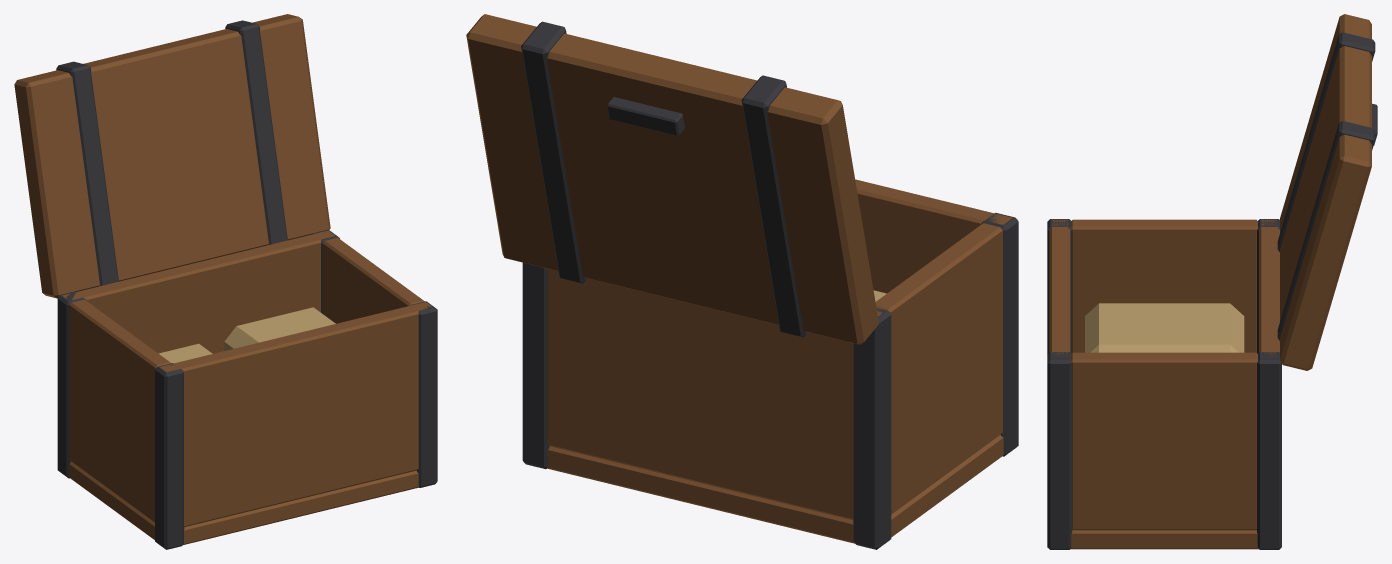
File: Prop_Ash_SeedCache_Open.glb
The picture shows the model from 3 angles, left to right: view 1: azimuth 30°, elevation 25°; view 2: azimuth 150°, elevation 25°; view 3: azimuth 270°, elevation 25°; orthographic projection. The views are drawn at different scales.
Parts seen in each view (by area): view 1: Prop_Ash_SeedCache_Open, Prop_Ash_SeedCache_Open_Lid; view 2: Prop_Ash_SeedCache_Open, Prop_Ash_SeedCache_Open_Lid; view 3: Prop_Ash_SeedCache_Open, Prop_Ash_SeedCache_Open_Lid.
Boxes of the visible parts, x1=… form: Prop_Ash_SeedCache_Open: x1=57, y1=229, x2=437, y2=549; Prop_Ash_SeedCache_Open_Lid: x1=14, y1=14, x2=330, y2=298; Prop_Ash_SeedCache_Open: x1=522, y1=179, x2=1018, y2=549; Prop_Ash_SeedCache_Open_Lid: x1=466, y1=14, x2=878, y2=344; Prop_Ash_SeedCache_Open: x1=1047, y1=219, x2=1281, y2=549; Prop_Ash_SeedCache_Open_Lid: x1=1277, y1=14, x2=1377, y2=370.
Size of what is drawn, in the model's own units: 0.82 by 1.05 by 0.7884.
